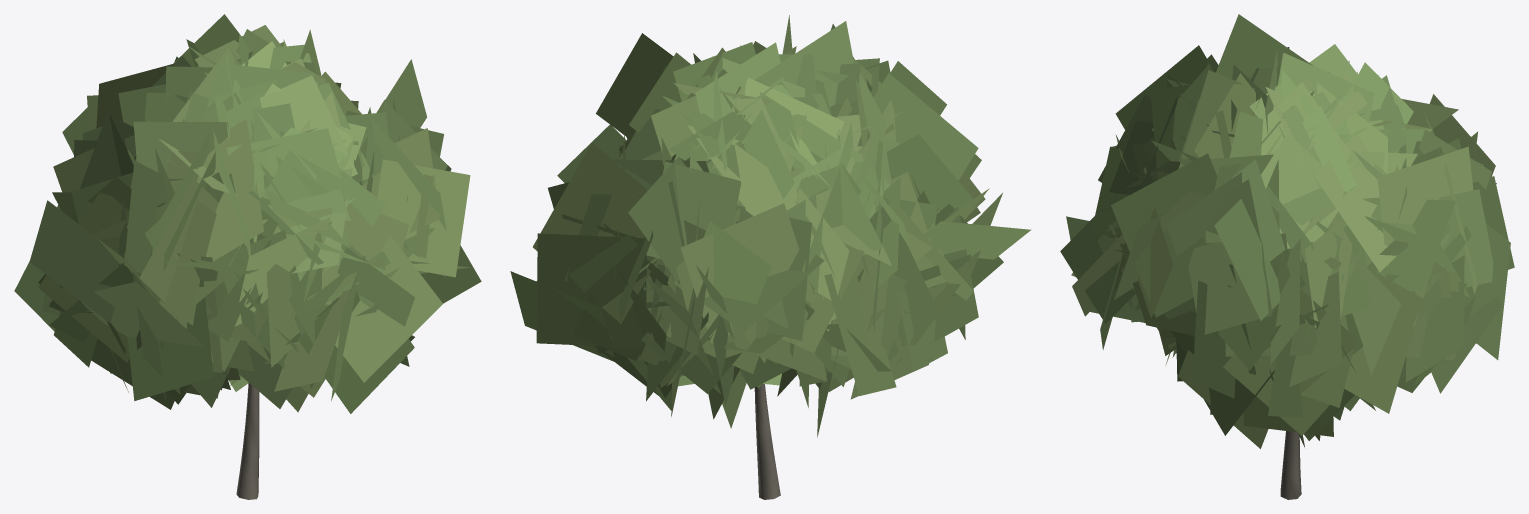
The model's file is ash_0.glb.
3 views of the same model, side by side, from view 1: azimuth 30°, elevation 25°; view 2: azimuth 150°, elevation 25°; view 3: azimuth 270°, elevation 25° (orthographic). The views are drawn at different scales.
Parts seen in each view (by area): view 1: ash_0; view 2: ash_0; view 3: ash_0.
Boxes of the visible parts, box(x1,y1,x2,y2) form: ash_0: box(14, 14, 481, 499); ash_0: box(510, 15, 1031, 499); ash_0: box(1060, 14, 1514, 499).
Bounding box in the file's own units: 1 × 1 × 0.8998.
